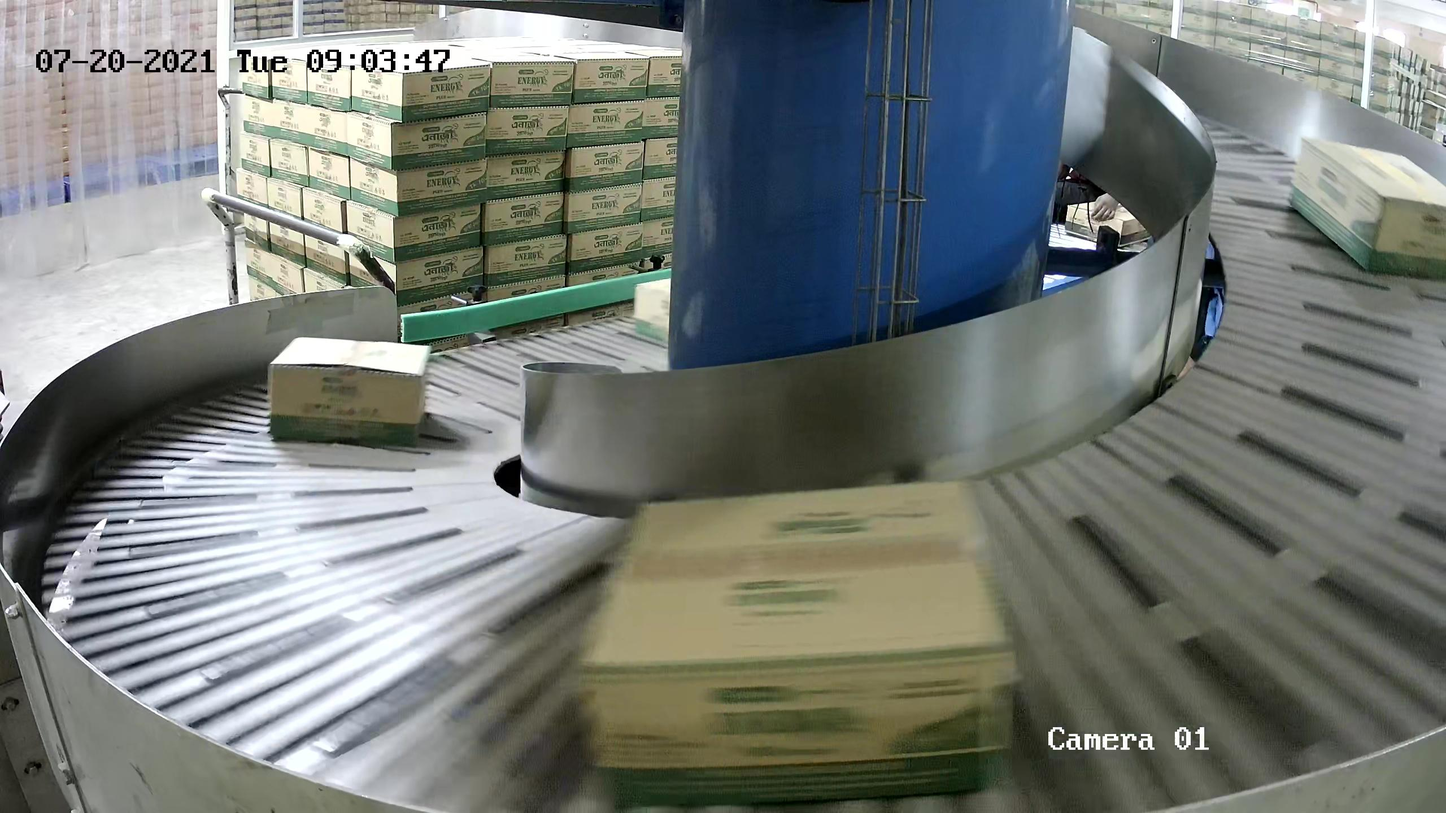Box: (578, 478, 1021, 808), (1286, 136, 1446, 287), (269, 336, 432, 450)
